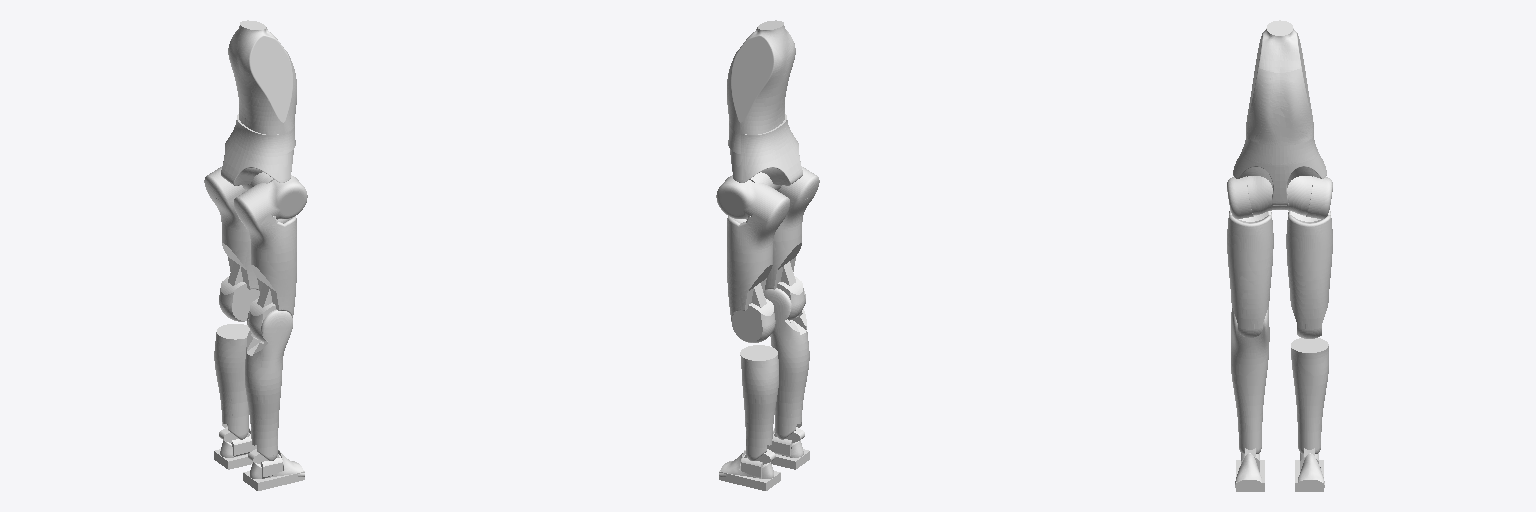
URDF robot description (lite_biped_alpha):
<?xml version='1.0' encoding='utf-8'?>
<robot name="lite_biped_alpha">
  <!-- GENERATED by lite_description.workflow from Onshape CAD. Do not edit by hand. Regenerate: lite-description-generate lite_biped_alpha -->
  <link name="pelvis">
    <inertial>
      <origin xyz="0.0117388 -3.26955e-07 0.172437" rpy="0 0 0" />
      <mass value="5.097" />
      <inertia ixx="0.0717755" ixy="6.22304e-08" ixz="0.00284014" iyy="0.0697925" iyz="5.11064e-07" izz="0.0139469" />
    </inertial>
    <!-- Part pelvis_parts -->
    <collision>
      <origin xyz="0.00964 1e-05 0.09166" rpy="-1.5708 1.5708 0" />
      <geometry>
        <cylinder length="0.03903" radius="0.069" />
      </geometry>
    </collision>
    <collision>
      <origin xyz="0.02 -1e-05 -0" rpy="-1.5708 1.5708 0" />
      <geometry>
        <cylinder length="0.14449" radius="0.052" />
      </geometry>
    </collision>
    <visual>
      <origin xyz="0.011317 -5.46765e-07 0.194586" rpy="0 -0 0" />
      <geometry>
        <mesh filename="../meshes/visual/pelvis_visual.stl" />
      </geometry>
      <material name="pelvis_parts_material">
        <color rgba="0.933333 0.933333 0.933333 1" />
      </material>
    </visual>
  </link>
  <!-- Frame imu (dummy link + fixed joint) -->
  <link name="imu">
    <origin xyz="0 0 0" rpy="0 -0 0" />
    <inertial>
      <origin xyz="0 0 0" rpy="0 0 0" />
      <mass value="1e-9" />
      <inertia ixx="0" ixy="0" ixz="0" iyy="0" iyz="0" izz="0" />
    </inertial>
  </link>
  <joint name="imu_frame" type="fixed">
    <origin xyz="0 0 0.08" rpy="0 -0 0" />
    <parent link="pelvis" />
    <child link="imu" />
    <axis xyz="0 0 0" />
  </joint>
  <!-- Link left_hip_pitch -->
  <link name="left_hip_pitch">
    <inertial>
      <origin xyz="-0.0114774 0.00418673 0.0187959" rpy="0 0 0" />
      <mass value="0.18" />
      <inertia ixx="0.000189549" ixy="1.56103e-05" ixz="-3.45388e-05" iyy="0.000226363" iyz="1.30141e-05" izz="0.000286537" />
    </inertial>
    <!-- Part left_hip_pitch_parts -->
    <visual>
      <origin xyz="-0.0114774 0.00418673 0.0187959" rpy="1.74533 0 -0" />
      <geometry>
        <mesh filename="../meshes/visual/left_hip_pitch_visual.stl" />
      </geometry>
      <material name="left_hip_pitch_parts_material">
        <color rgba="0.933333 0.933333 0.933333 1" />
      </material>
    </visual>
  </link>
  <!-- Link left_hip_roll -->
  <link name="left_hip_roll">
    <inertial>
      <origin xyz="-4.8952e-08 0.0525082 -0.0652484" rpy="0 0 0" />
      <mass value="0.93" />
      <inertia ixx="0.00263146" ixy="-5.134e-09" ixz="3.451e-09" iyy="0.00142387" iyz="-0.000651416" izz="0.00255491" />
    </inertial>
    <!-- Part left_hip_roll_parts -->
    <collision>
      <origin xyz="0 0.0248964 -0.0653033" rpy="3.14159 1.50098 1.5708" />
      <geometry>
        <cylinder length="0.08315" radius="0.051" />
      </geometry>
    </collision>
    <visual>
      <origin xyz="-4.8952e-08 0.0525082 -0.0652484" rpy="0 -1.22173 1.5708" />
      <geometry>
        <mesh filename="../meshes/visual/left_hip_roll_visual.stl" />
      </geometry>
      <material name="left_hip_roll_parts_material">
        <color rgba="0.933333 0.933333 0.933333 1" />
      </material>
    </visual>
  </link>
  <!-- Link left_hip_yaw -->
  <link name="left_hip_yaw">
    <inertial>
      <origin xyz="0.00130442 -2.2783e-05 -0.237299" rpy="0 0 0" />
      <mass value="1.54" />
      <inertia ixx="0.00856423" ixy="8.05553e-07" ixz="-0.000337563" iyy="0.00874707" iyz="1.62929e-07" izz="0.00192866" />
    </inertial>
    <!-- Part left_hip_yaw_parts -->
    <collision>
      <origin xyz="-0.005 -0 -0.2575" rpy="0 0.0689405 0" />
      <geometry>
        <cylinder length="0.14534" radius="0.055" />
      </geometry>
    </collision>
    <visual>
      <origin xyz="0.00130442 -2.2783e-05 -0.237299" rpy="-0 0 -0" />
      <geometry>
        <mesh filename="../meshes/visual/left_hip_yaw_visual.stl" />
      </geometry>
      <material name="left_hip_yaw_parts_material">
        <color rgba="0.933333 0.933333 0.933333 1" />
      </material>
    </visual>
  </link>
  <!-- Link left_knee_pitch -->
  <link name="left_knee_pitch">
    <inertial>
      <origin xyz="-0.00486713 0.0372163 -0.000224083" rpy="0 0 0" />
      <mass value="0.23" />
      <inertia ixx="0.00048246" ixy="3.51526e-05" ixz="-1.20098e-07" iyy="0.000330466" iyz="5.6617e-07" izz="0.00037756" />
    </inertial>
    <!-- Part left_knee_pitch_parts -->
    <collision>
      <origin xyz="-0.015 0.1519 0" rpy="-1.5708 -1.5708 0" />
      <geometry>
        <cylinder length="0.30379" radius="0.044" />
      </geometry>
    </collision>
    <visual>
      <origin xyz="-0.00486713 0.0372163 -0.000224083" rpy="1.5708 0 0" />
      <geometry>
        <mesh filename="../meshes/visual/left_knee_pitch_visual.stl" />
      </geometry>
      <material name="left_knee_pitch_parts_material">
        <color rgba="0.933333 0.933333 0.933333 1" />
      </material>
    </visual>
  </link>
  <!-- Link left_ankle_yaw -->
  <link name="left_ankle_yaw">
    <inertial>
      <origin xyz="-0.00304992 0.00150525 -0.18535" rpy="0 0 0" />
      <mass value="1.03" />
      <inertia ixx="0.00548966" ixy="2.18778e-06" ixz="0.000114943" iyy="0.00552969" iyz="-1.87643e-05" izz="0.000829513" />
    </inertial>
    <!-- Part left_ankle_yaw_parts -->
    <visual>
      <origin xyz="-0.00304992 0.00150525 -0.18535" rpy="-0 0 -0" />
      <geometry>
        <mesh filename="../meshes/visual/left_ankle_yaw_visual.stl" />
      </geometry>
      <material name="left_ankle_yaw_parts_material">
        <color rgba="0.933333 0.933333 0.933333 1" />
      </material>
    </visual>
  </link>
  <!-- Link left_ankle_pitch -->
  <link name="left_ankle_pitch">
    <inertial>
      <origin xyz="-0.00384209 0.0297371 3.1356e-08" rpy="0 0 0" />
      <mass value="0.34" />
      <inertia ixx="0.000180143" ixy="-3.10163e-05" ixz="-7.8e-11" iyy="0.00014325" iyz="2.66e-10" izz="0.000245142" />
    </inertial>
    <!-- Part left_ankle_pitch_parts -->
    <visual>
      <origin xyz="-0.00384209 0.0297371 3.1356e-08" rpy="1.5708 -0 -0" />
      <geometry>
        <mesh filename="../meshes/visual/left_ankle_pitch_visual.stl" />
      </geometry>
      <material name="left_ankle_pitch_parts_material">
        <color rgba="0.933333 0.933333 0.933333 1" />
      </material>
    </visual>
  </link>
  <!-- Link left_foot -->
  <link name="left_foot">
    <inertial>
      <origin xyz="-0.000733289 0.0228285 0.0197452" rpy="0 0 0" />
      <mass value="0.309507" />
      <inertia ixx="0.000513563" ixy="-3.54294e-06" ixz="6.31014e-06" iyy="0.000570924" iyz="1.33689e-05" izz="0.000170529" />
    </inertial>
    <!-- Part left_foot_parts -->
    <collision>
      <origin xyz="-0 0.03 0.015" rpy="1.5708 0 0" />
      <geometry>
        <box size="0.07 0.13 0.02" />
      </geometry>
    </collision>
    <visual>
      <origin xyz="-0.000733289 0.0228285 0.0197452" rpy="1.5708 -1.5708 0" />
      <geometry>
        <mesh filename="../meshes/visual/left_foot_visual.stl" />
      </geometry>
      <material name="left_foot_parts_material">
        <color rgba="0.933333 0.933333 0.933333 1" />
      </material>
    </visual>
  </link>
  <!-- Joint from left_ankle_pitch to left_foot -->
  <joint name="left_ankle_roll" type="revolute">
    <origin xyz="0 0.04 -0" rpy="0 1.5708 0" />
    <parent link="left_ankle_pitch" />
    <child link="left_foot" />
    <axis xyz="0 0 1" />
    <limit effort="5.5" velocity="50.27" lower="-0.349066" upper="0.349066" />
    <joint_properties friction="0.1" />
  </joint>
  <!-- Joint from left_ankle_yaw to left_ankle_pitch -->
  <joint name="left_ankle_pitch" type="revolute">
    <origin xyz="0.01 -0 -0.34" rpy="-1.5708 0 -0" />
    <parent link="left_ankle_yaw" />
    <child link="left_ankle_pitch" />
    <axis xyz="0 0 1" />
    <limit effort="14.0" velocity="32.99" lower="-0.523599" upper="0.872665" />
    <joint_properties friction="0.1" />
  </joint>
  <!-- Joint from left_knee_pitch to left_ankle_yaw -->
  <joint name="left_ankle_yaw" type="revolute">
    <origin xyz="-0.015 0 0" rpy="1.5708 0 -0" />
    <parent link="left_knee_pitch" />
    <child link="left_ankle_yaw" />
    <axis xyz="0 0 1" />
    <limit effort="14.0" velocity="32.99" lower="-1.5708" upper="1.5708" />
    <joint_properties friction="0.1" />
  </joint>
  <!-- Joint from left_hip_yaw to left_knee_pitch -->
  <joint name="left_knee_pitch" type="revolute">
    <origin xyz="-0.01 0 -0.33" rpy="-1.5708 0 0" />
    <parent link="left_hip_yaw" />
    <child link="left_knee_pitch" />
    <axis xyz="0 0 1" />
    <limit effort="36.0" velocity="50.27" lower="0" upper="2.35619" />
    <joint_properties friction="0.1" />
  </joint>
  <!-- Joint from left_hip_roll to left_hip_yaw -->
  <joint name="left_hip_yaw" type="revolute">
    <origin xyz="0 -0.0068404 -0.0187939" rpy="0 -1.22173 1.5708" />
    <parent link="left_hip_roll" />
    <child link="left_hip_yaw" />
    <axis xyz="0 0 1" />
    <limit effort="17.0" velocity="42.94" lower="-1.5708" upper="1.5708" />
    <joint_properties friction="0.1" />
  </joint>
  <!-- Joint from left_hip_pitch to left_hip_roll -->
  <joint name="left_hip_roll" type="revolute">
    <origin xyz="-0 0 -0" rpy="1.91986 1.39626 1.5708" />
    <parent link="left_hip_pitch" />
    <child link="left_hip_roll" />
    <axis xyz="0 0 1" />
    <limit effort="36.0" velocity="50.27" lower="-0.349066" upper="1.5708" />
    <joint_properties friction="0.1" />
  </joint>
  <!-- Joint from pelvis to left_hip_pitch -->
  <joint name="left_hip_pitch" type="revolute">
    <origin xyz="0.02 0.07 0" rpy="-1.74533 0 0" />
    <parent link="pelvis" />
    <child link="left_hip_pitch" />
    <axis xyz="0 0 1" />
    <limit effort="36.0" velocity="50.27" lower="-2.35619" upper="0.785398" />
    <joint_properties friction="0.1" />
  </joint>
  <!-- Link right_hip_pitch -->
  <link name="right_hip_pitch">
    <inertial>
      <origin xyz="-0.0114771 0.00418737 -0.0187964" rpy="0 0 0" />
      <mass value="0.18" />
      <inertia ixx="0.000189546" ixy="1.56176e-05" ixz="3.45408e-05" iyy="0.00022637" iyz="-1.30122e-05" izz="0.000286535" />
    </inertial>
    <!-- Part right_hip_pitch_parts -->
    <visual>
      <origin xyz="-0.0114771 0.00418737 -0.0187964" rpy="1.39626 0 -0" />
      <geometry>
        <mesh filename="../meshes/visual/right_hip_pitch_visual.stl" />
      </geometry>
      <material name="right_hip_pitch_parts_material">
        <color rgba="0.933333 0.933333 0.933333 1" />
      </material>
    </visual>
  </link>
  <!-- Link right_hip_roll -->
  <link name="right_hip_roll">
    <inertial>
      <origin xyz="2.6715e-08 0.0525085 -0.0652483" rpy="0 0 0" />
      <mass value="0.93" />
      <inertia ixx="0.00263147" ixy="2.71e-10" ixz="6.079e-09" iyy="0.00142387" iyz="-0.000651423" izz="0.00255493" />
    </inertial>
    <!-- Part right_hip_roll_parts -->
    <collision>
      <origin xyz="1.40064e-07 0.0248965 -0.0653029" rpy="-3.14159 1.50098 1.5708" />
      <geometry>
        <cylinder length="0.08315" radius="0.051" />
      </geometry>
    </collision>
    <visual>
      <origin xyz="2.6715e-08 0.0525085 -0.0652483" rpy="0 -1.22173 1.5708" />
      <geometry>
        <mesh filename="../meshes/visual/right_hip_roll_visual.stl" />
      </geometry>
      <material name="right_hip_roll_parts_material">
        <color rgba="0.933333 0.933333 0.933333 1" />
      </material>
    </visual>
  </link>
  <!-- Link right_hip_yaw -->
  <link name="right_hip_yaw">
    <inertial>
      <origin xyz="0.00130421 2.35733e-05 -0.237299" rpy="0 0 0" />
      <mass value="1.54" />
      <inertia ixx="0.00856421" ixy="-7.98006e-07" ixz="-0.000337552" iyy="0.00874705" iyz="-2.23692e-07" izz="0.00192867" />
    </inertial>
    <!-- Part right_hip_yaw_parts -->
    <collision>
      <origin xyz="-0.005 -0 -0.2575" rpy="-0 0.0689405 -0" />
      <geometry>
        <cylinder length="0.14534" radius="0.055" />
      </geometry>
    </collision>
    <visual>
      <origin xyz="0.00130421 2.35733e-05 -0.237299" rpy="0 0 -0" />
      <geometry>
        <mesh filename="../meshes/visual/right_hip_yaw_visual.stl" />
      </geometry>
      <material name="right_hip_yaw_parts_material">
        <color rgba="0.933333 0.933333 0.933333 1" />
      </material>
    </visual>
  </link>
  <!-- Link right_knee_pitch -->
  <link name="right_knee_pitch">
    <inertial>
      <origin xyz="-0.0048642 0.0372186 0.000224747" rpy="0 0 0" />
      <mass value="0.23" />
      <inertia ixx="0.000482479" ixy="3.5171e-05" ixz="1.13103e-07" iyy="0.000330463" iyz="-5.54061e-07" izz="0.000377561" />
    </inertial>
    <!-- Part right_knee_pitch_parts -->
    <collision>
      <origin xyz="-0.015 0.1519 0" rpy="-1.5708 -1.5708 0" />
      <geometry>
        <cylinder length="0.30379" radius="0.044" />
      </geometry>
    </collision>
    <visual>
      <origin xyz="-0.0048642 0.0372186 0.000224747" rpy="1.5708 0 0" />
      <geometry>
        <mesh filename="../meshes/visual/right_knee_pitch_visual.stl" />
      </geometry>
      <material name="right_knee_pitch_parts_material">
        <color rgba="0.933333 0.933333 0.933333 1" />
      </material>
    </visual>
  </link>
  <!-- Link right_ankle_yaw -->
  <link name="right_ankle_yaw">
    <inertial>
      <origin xyz="-0.00304908 -0.0015054 -0.185348" rpy="0 0 0" />
      <mass value="1.03" />
      <inertia ixx="0.00548969" ixy="-2.19478e-06" ixz="0.000114953" iyy="0.00552968" iyz="1.87697e-05" izz="0.00082951" />
    </inertial>
    <!-- Part right_ankle_yaw_parts -->
    <visual>
      <origin xyz="-0.00304908 -0.0015054 -0.185348" rpy="0 0 -0" />
      <geometry>
        <mesh filename="../meshes/visual/right_ankle_yaw_visual.stl" />
      </geometry>
      <material name="right_ankle_yaw_parts_material">
        <color rgba="0.933333 0.933333 0.933333 1" />
      </material>
    </visual>
  </link>
  <!-- Link right_ankle_pitch -->
  <link name="right_ankle_pitch">
    <inertial>
      <origin xyz="-0.00384209 0.0297371 3.1396e-08" rpy="0 0 0" />
      <mass value="0.34" />
      <inertia ixx="0.000180143" ixy="-3.10163e-05" ixz="-7.8e-11" iyy="0.00014325" iyz="2.66e-10" izz="0.000245142" />
    </inertial>
    <!-- Part right_ankle_pitch_parts -->
    <visual>
      <origin xyz="-0.00384209 0.0297371 3.1396e-08" rpy="1.5708 0 0" />
      <geometry>
        <mesh filename="../meshes/visual/right_ankle_pitch_visual.stl" />
      </geometry>
      <material name="right_ankle_pitch_parts_material">
        <color rgba="0.933333 0.933333 0.933333 1" />
      </material>
    </visual>
  </link>
  <!-- Link right_foot -->
  <link name="right_foot">
    <inertial>
      <origin xyz="0.000733292 0.0228286 0.0197451" rpy="0 0 0" />
      <mass value="0.309507" />
      <inertia ixx="0.000513563" ixy="3.54295e-06" ixz="-6.31016e-06" iyy="0.000570924" iyz="1.33689e-05" izz="0.000170529" />
    </inertial>
    <!-- Part right_foot_parts -->
    <collision>
      <origin xyz="0 0.03 0.015" rpy="1.5708 0 -0" />
      <geometry>
        <box size="0.07 0.13 0.02" />
      </geometry>
    </collision>
    <visual>
      <origin xyz="0.000733292 0.0228286 0.0197451" rpy="1.5708 -1.5708 0" />
      <geometry>
        <mesh filename="../meshes/visual/right_foot_visual.stl" />
      </geometry>
      <material name="right_foot_parts_material">
        <color rgba="0.933333 0.933333 0.933333 1" />
      </material>
    </visual>
  </link>
  <!-- Joint from right_ankle_pitch to right_foot -->
  <joint name="right_ankle_roll" type="revolute">
    <origin xyz="0 0.04 0" rpy="0 1.5708 0" />
    <parent link="right_ankle_pitch" />
    <child link="right_foot" />
    <axis xyz="0 0 1" />
    <limit effort="5.5" velocity="50.27" lower="-0.349066" upper="0.349066" />
    <joint_properties friction="0.1" />
  </joint>
  <!-- Joint from right_ankle_yaw to right_ankle_pitch -->
  <joint name="right_ankle_pitch" type="revolute">
    <origin xyz="0.01 0 -0.34" rpy="-1.5708 -0 -0" />
    <parent link="right_ankle_yaw" />
    <child link="right_ankle_pitch" />
    <axis xyz="0 0 1" />
    <limit effort="14.0" velocity="32.99" lower="-0.523599" upper="0.872665" />
    <joint_properties friction="0.1" />
  </joint>
  <!-- Joint from right_knee_pitch to right_ankle_yaw -->
  <joint name="right_ankle_yaw" type="revolute">
    <origin xyz="-0.015 0 0" rpy="1.5708 -0 -0" />
    <parent link="right_knee_pitch" />
    <child link="right_ankle_yaw" />
    <axis xyz="0 0 1" />
    <limit effort="14.0" velocity="32.99" lower="-1.5708" upper="1.5708" />
    <joint_properties friction="0.1" />
  </joint>
  <!-- Joint from right_hip_yaw to right_knee_pitch -->
  <joint name="right_knee_pitch" type="revolute">
    <origin xyz="-0.01 -0 -0.33" rpy="-1.5708 0 0" />
    <parent link="right_hip_yaw" />
    <child link="right_knee_pitch" />
    <axis xyz="0 0 1" />
    <limit effort="36.0" velocity="50.27" lower="0" upper="2.35619" />
    <joint_properties friction="0.1" />
  </joint>
  <!-- Joint from right_hip_roll to right_hip_yaw -->
  <joint name="right_hip_yaw" type="revolute">
    <origin xyz="-0 -0.0068404 -0.0187939" rpy="-0 -1.22173 1.5708" />
    <parent link="right_hip_roll" />
    <child link="right_hip_yaw" />
    <axis xyz="0 0 1" />
    <limit effort="17.0" velocity="42.94" lower="-1.5708" upper="1.5708" />
    <joint_properties friction="0.1" />
  </joint>
  <!-- Joint from right_hip_pitch to right_hip_roll -->
  <joint name="right_hip_roll" type="revolute">
    <origin xyz="0 -0 -0" rpy="-1.22173 1.39626 -1.5708" />
    <parent link="right_hip_pitch" />
    <child link="right_hip_roll" />
    <axis xyz="0 0 1" />
    <limit effort="36.0" velocity="50.27" lower="-1.5708" upper="0.349066" />
    <joint_properties friction="0.1" />
  </joint>
  <!-- Joint from pelvis to right_hip_pitch -->
  <joint name="right_hip_pitch" type="revolute">
    <origin xyz="0.02 -0.07 -0" rpy="-1.39626 -0 0" />
    <parent link="pelvis" />
    <child link="right_hip_pitch" />
    <axis xyz="0 0 1" />
    <limit effort="36.0" velocity="50.27" lower="-2.35619" upper="0.785398" />
    <joint_properties friction="0.1" />
  </joint>
</robot>

--- Facts derived from the render (not from the file) ---
3 views of the same robot in one strip: view 1: azimuth 30°, elevation 25°; view 2: azimuth 150°, elevation 25°; view 3: azimuth 270°, elevation 25° (orthographic).
Model lite_biped_alpha with 16 links and 15 joints (14 revolute, 1 fixed), rooted at pelvis, posed all joints at 0.
Visible links, largest first — view 1: pelvis, left_ankle_yaw, right_ankle_yaw, right_hip_yaw, left_hip_yaw, right_hip_roll, right_knee_pitch, right_hip_pitch, left_hip_roll, right_foot, left_foot; view 2: pelvis, left_hip_yaw, left_ankle_yaw, right_ankle_yaw, left_hip_roll, right_hip_yaw, left_hip_pitch, right_hip_roll, right_knee_pitch, left_foot, right_foot; view 3: pelvis, left_ankle_yaw, left_hip_yaw, right_hip_yaw, right_ankle_yaw, right_hip_roll, left_hip_roll, left_foot, right_foot, right_knee_pitch, left_hip_pitch, right_hip_pitch.
Link boxes in pixels (bbox=[...]): pelvis: bbox=[221, 20, 296, 190]; left_ankle_yaw: bbox=[214, 324, 249, 439]; right_ankle_yaw: bbox=[245, 355, 283, 460]; right_hip_yaw: bbox=[248, 246, 296, 341]; left_hip_yaw: bbox=[219, 225, 259, 321]; right_hip_roll: bbox=[234, 188, 296, 253]; right_knee_pitch: bbox=[246, 310, 292, 360]; right_hip_pitch: bbox=[252, 175, 307, 219]; left_hip_roll: bbox=[204, 167, 247, 231]; right_foot: bbox=[243, 450, 304, 490]; left_foot: bbox=[214, 428, 252, 469]; pelvis: bbox=[727, 20, 802, 190]; left_hip_yaw: bbox=[727, 246, 775, 342]; left_ankle_yaw: bbox=[740, 345, 778, 460]; right_ankle_yaw: bbox=[770, 332, 809, 439]; left_hip_roll: bbox=[727, 188, 789, 253]; right_hip_yaw: bbox=[765, 225, 804, 320]; left_hip_pitch: bbox=[716, 175, 771, 219]; right_hip_roll: bbox=[776, 167, 819, 231]; right_knee_pitch: bbox=[764, 288, 806, 339]; left_foot: bbox=[719, 450, 780, 490]; right_foot: bbox=[771, 428, 809, 469]; pelvis: bbox=[1233, 20, 1326, 214]; left_ankle_yaw: bbox=[1291, 338, 1328, 453]; left_hip_yaw: bbox=[1286, 243, 1332, 338]; right_hip_yaw: bbox=[1227, 243, 1273, 337]; right_ankle_yaw: bbox=[1231, 346, 1268, 453]; right_hip_roll: bbox=[1227, 210, 1273, 251]; left_hip_roll: bbox=[1286, 210, 1332, 251]; left_foot: bbox=[1295, 453, 1324, 491]; right_foot: bbox=[1235, 453, 1264, 491]; right_knee_pitch: bbox=[1231, 307, 1269, 352]; left_hip_pitch: bbox=[1306, 176, 1332, 218]; right_hip_pitch: bbox=[1227, 176, 1253, 218].
Size in the robot's own frame: 0.182 by 0.2504 by 1.18 metres.
14 mesh visuals loaded from 15 distinct referenced files (14 binary STL); not drawn: 1 (reference not matched to a file when rendering).
